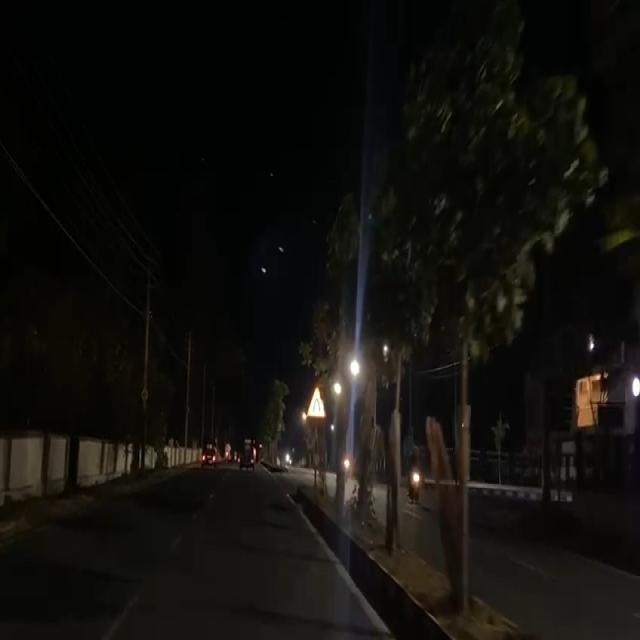bien_nguy_hiem: (306, 385, 327, 422)
